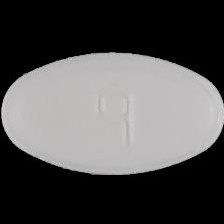16590-052: (0, 0, 224, 224)
